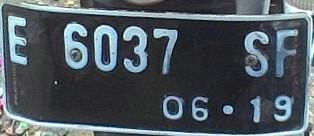0: (92, 23, 121, 74)
3: (119, 24, 150, 77)
6: (61, 22, 94, 72)
7: (149, 26, 182, 77)
E: (3, 12, 34, 68)
F: (274, 26, 301, 80)
S: (239, 30, 277, 80)
